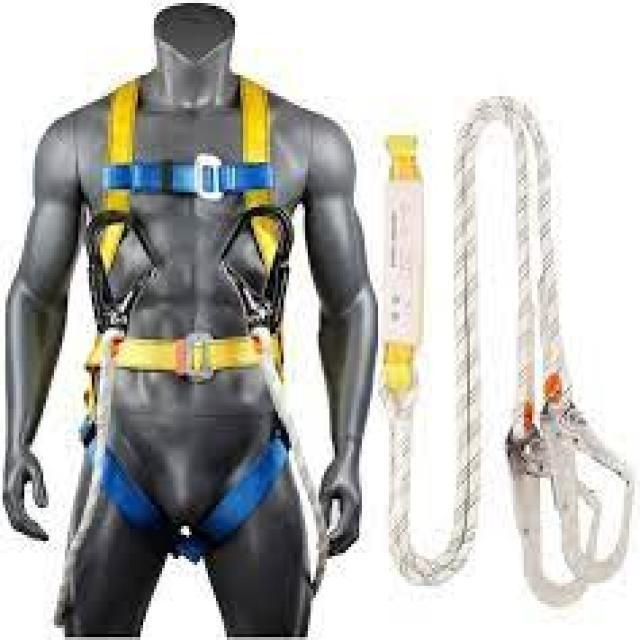Arnes_seguridad: (75, 68, 307, 549)
